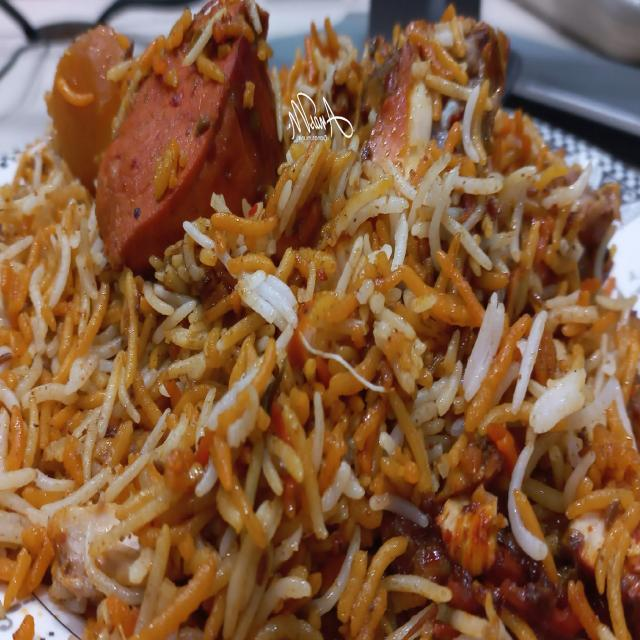Biryani: (0, 6, 635, 609)
